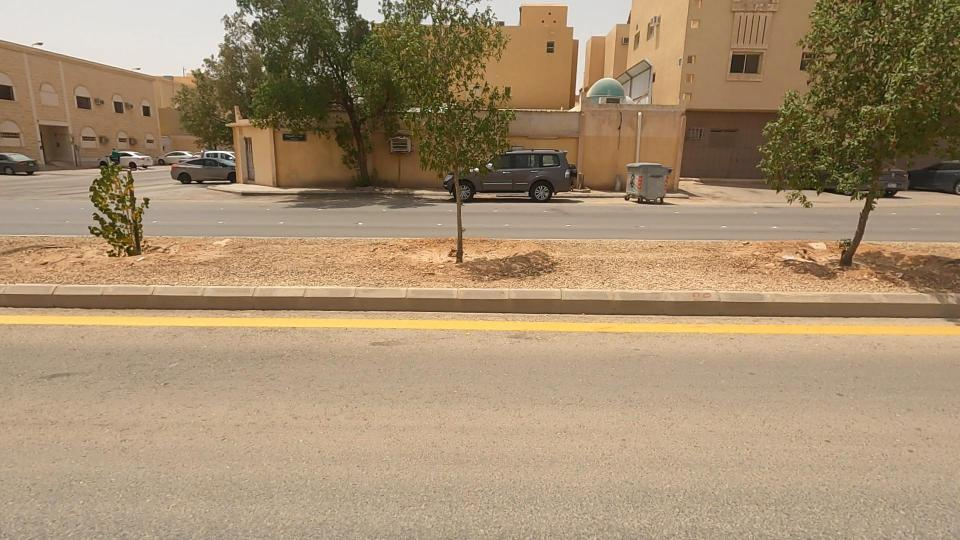CLUTTER_SIDEWALK: (386, 199, 943, 335), (111, 202, 495, 312)
